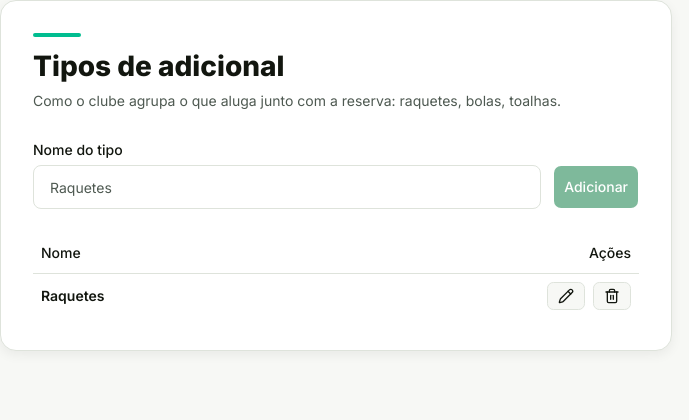
TiposDeAdicionalManager — SPEC-054/D12 › apagar tipo em uso mostra QUANTOS adicionais o usam e o que fazer
Click the button named "Apagar Raquetes": (612,296) [593, 282, 631, 310]
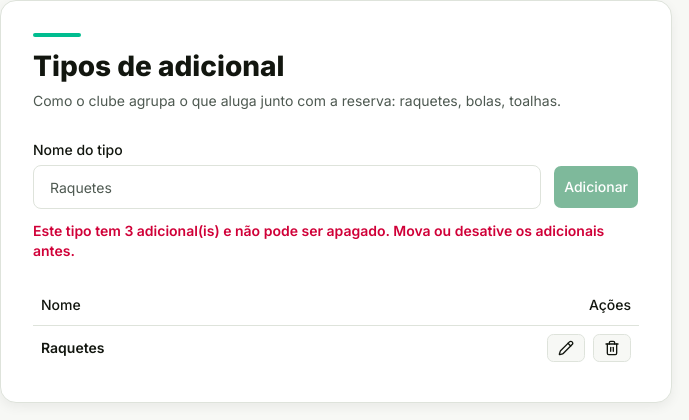
expect the message shows "Este tipo tem 3 adicional(is) e não pode ser apagado": met, box [33, 222, 604, 259]
